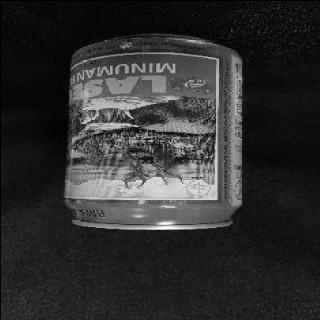alumunium_can: (61, 32, 242, 230)
